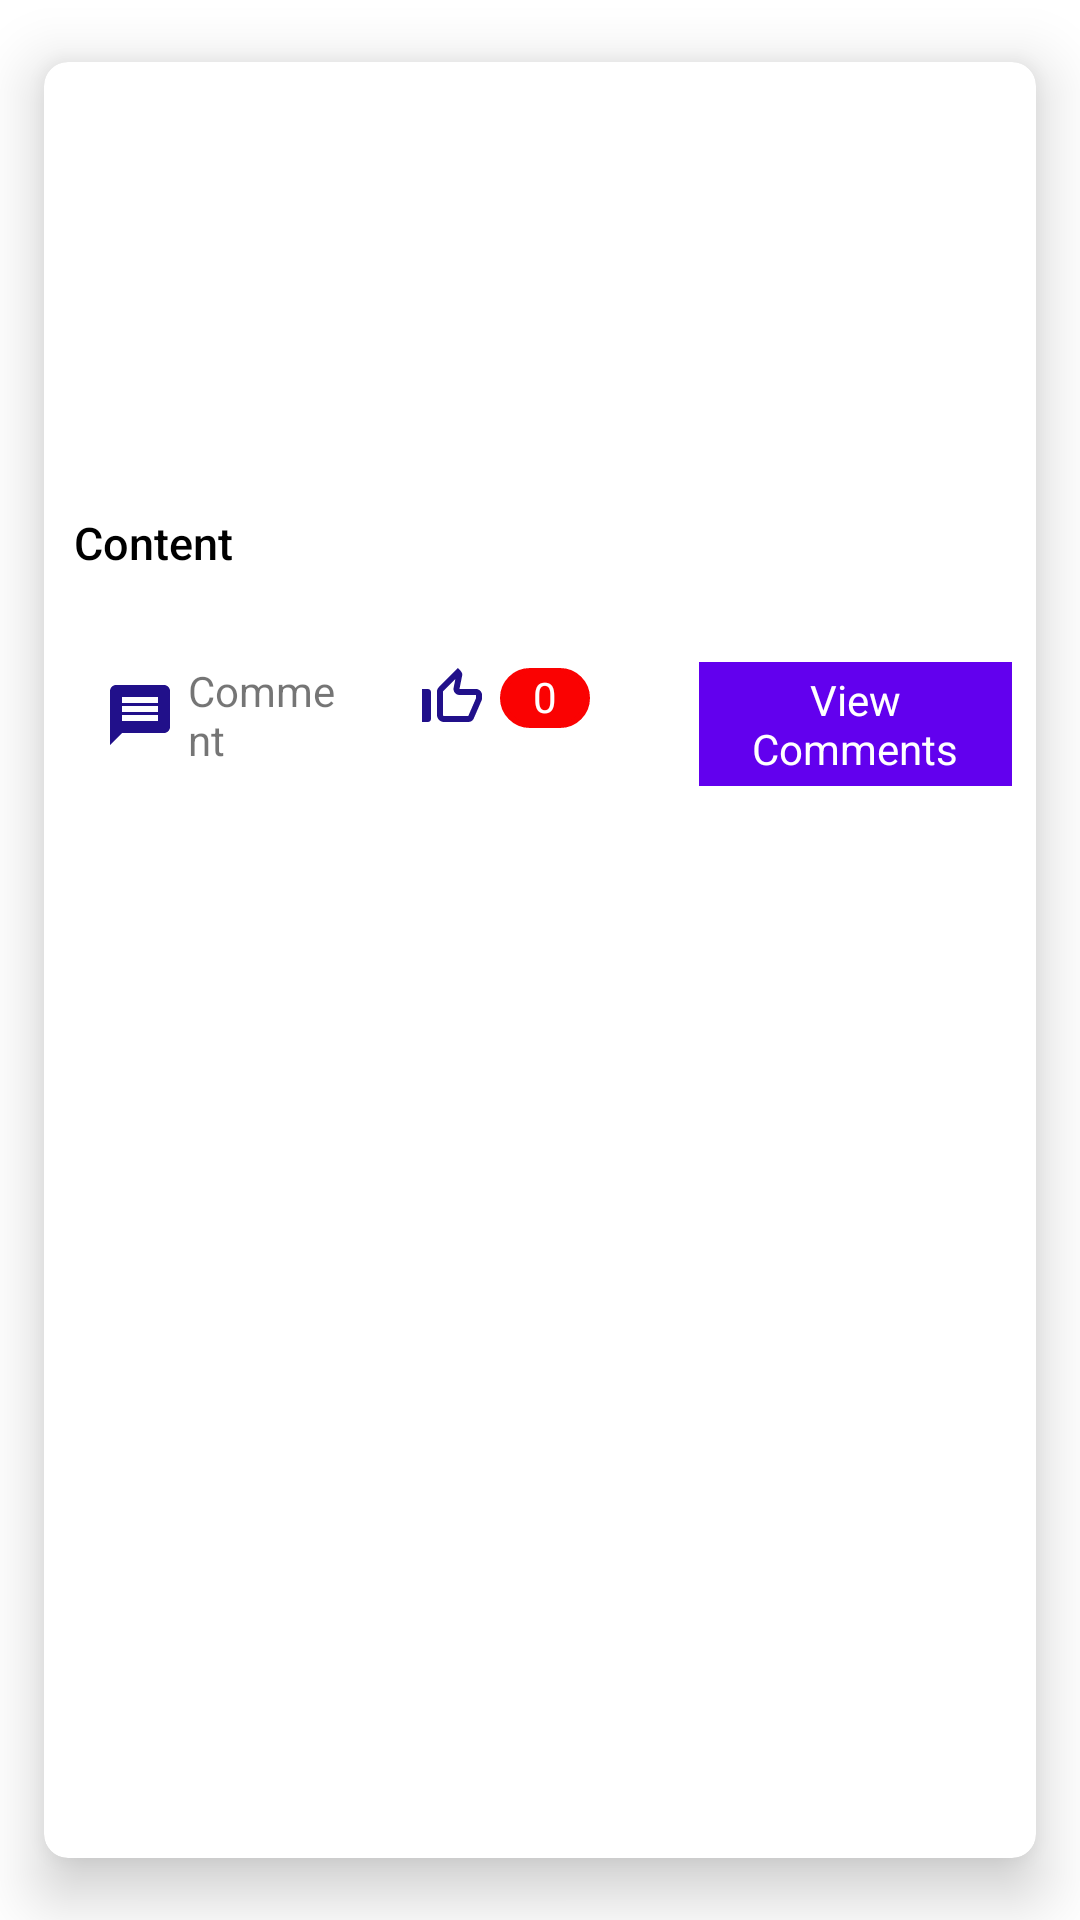

Named icons in this screenshot (1080 × 1920) and their bounding boxes, detection(x1, y1, x2, y2):
message: detection(110, 685, 170, 745)
thumb up off: detection(422, 668, 482, 722)
